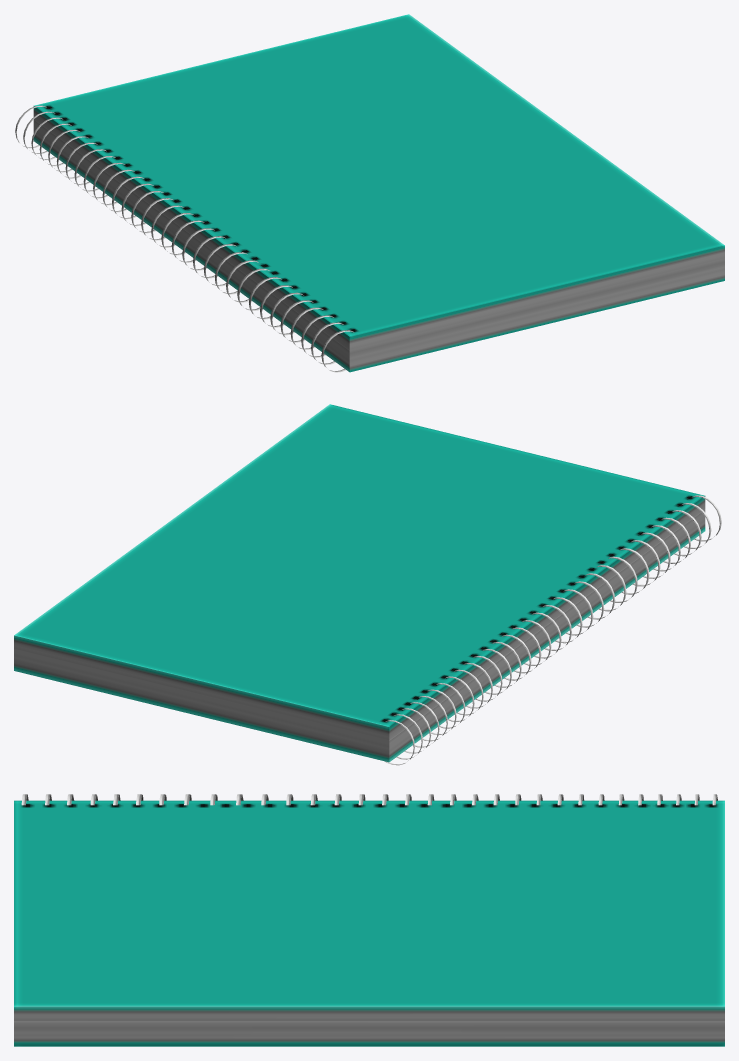
The model's file is notepad.fbx.
The picture shows the model from 3 angles, top to bottom: view 1: azimuth 30°, elevation 25°; view 2: azimuth 150°, elevation 25°; view 3: azimuth 270°, elevation 25°; orthographic projection. The views are drawn at different scales.
Parts seen in each view (by area): view 1: notepad_top, notepad_bottom, notepad_hinge; view 2: notepad_top, notepad_bottom, notepad_hinge; view 3: notepad_top, notepad_bottom, notepad_hinge.
Part boxes in pixels (x1,y1,x2,y2): notepad_top: (33,14,724,350); notepad_bottom: (33,119,724,372); notepad_hinge: (15,105,353,372); notepad_top: (14,404,705,740); notepad_bottom: (14,509,705,762); notepad_hinge: (385,495,721,765); notepad_top: (14,800,724,1021); notepad_bottom: (14,1021,724,1046); notepad_hinge: (21,794,717,805).
Size of the model in its own units: 0.2643 by 0.0267 by 0.3646.
